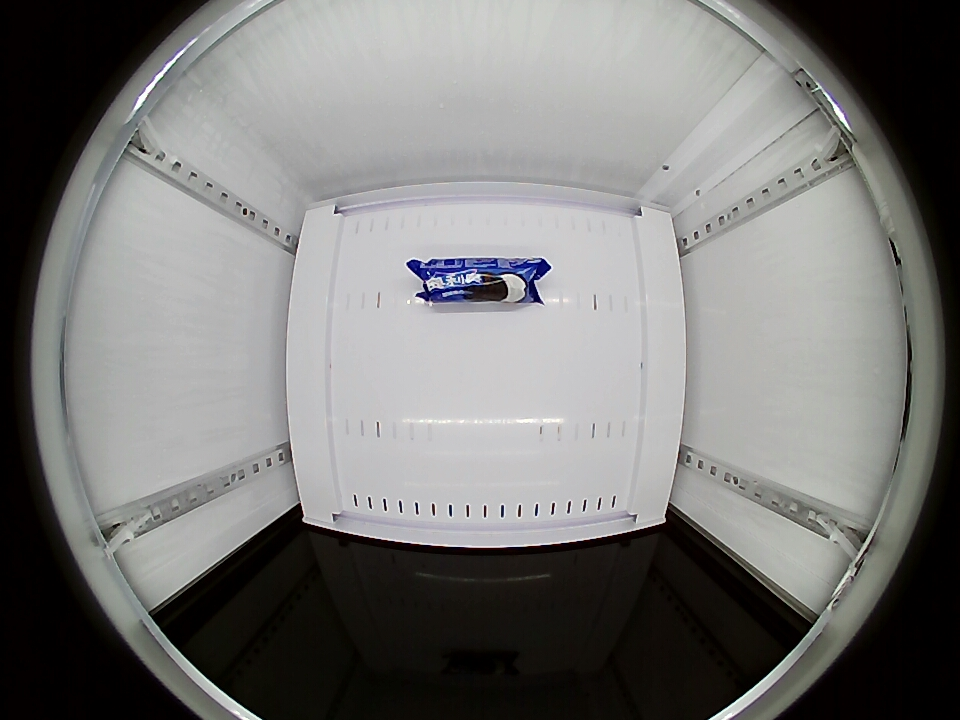aoliao: (413, 258, 545, 307)
